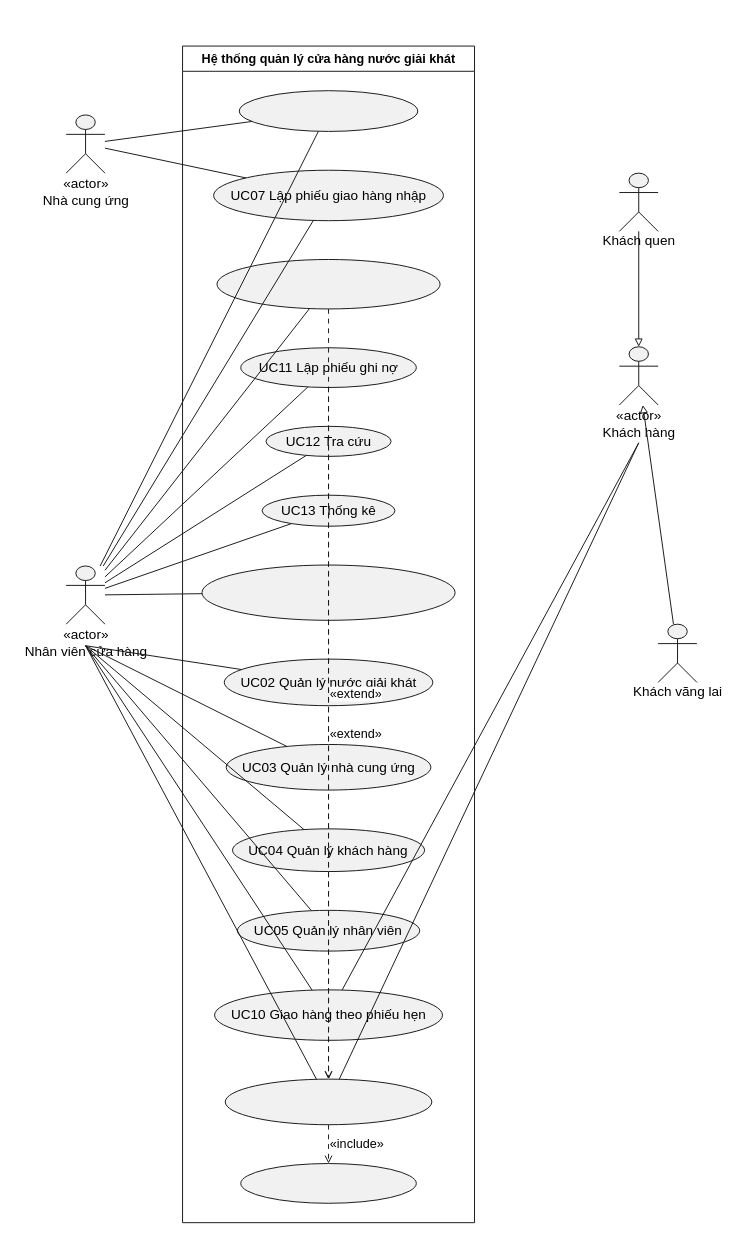
The diagram is 748 pixels wide and 1240 high, and some of its shapes have lost their labels. Each missing label, with the box of its shape:
UC01 Quản lý nhãn hiệu (loại NGK): (201, 564, 455, 620)
UC06 Lập đơn đặt hàng: (238, 90, 418, 131)
UC08 Lập hóa đơn bán hàng: (224, 1078, 432, 1125)
UC09 Lập phiếu hẹn giao hàng: (216, 259, 440, 309)
UC14 Kiểm tra tồn kho: (240, 1163, 416, 1203)
